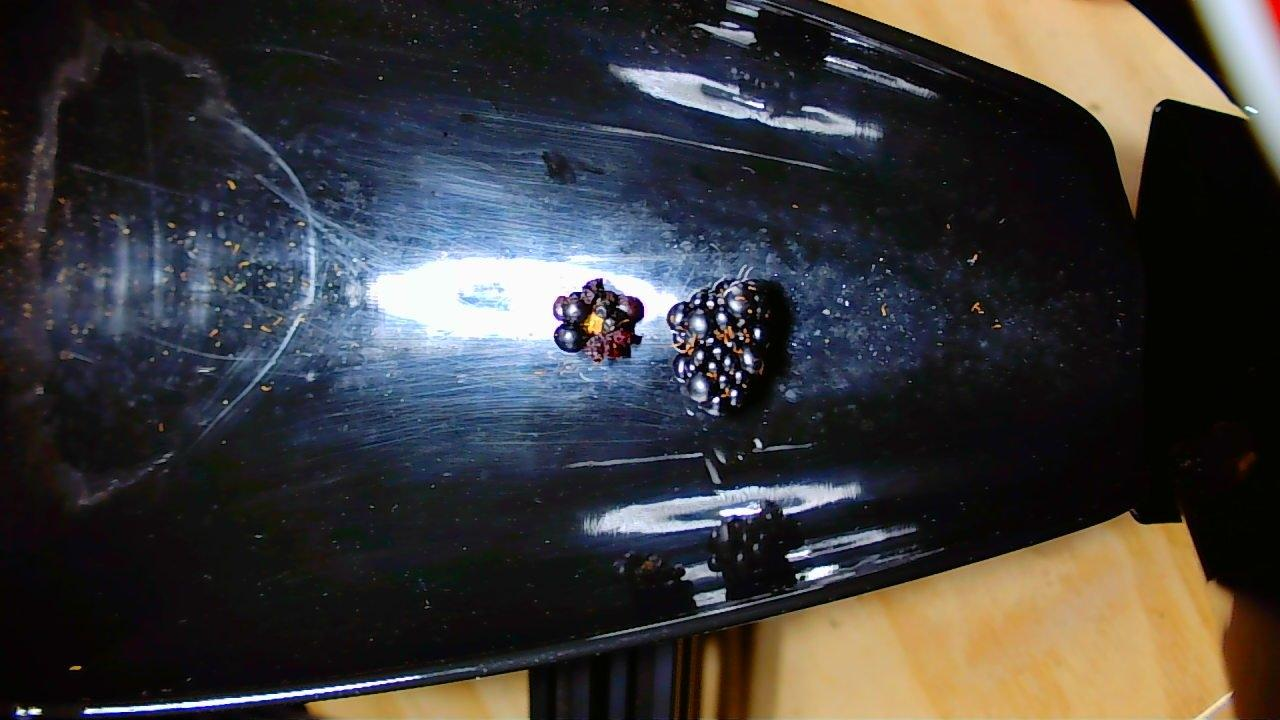berry: (674, 278, 774, 422), (550, 277, 643, 358)
